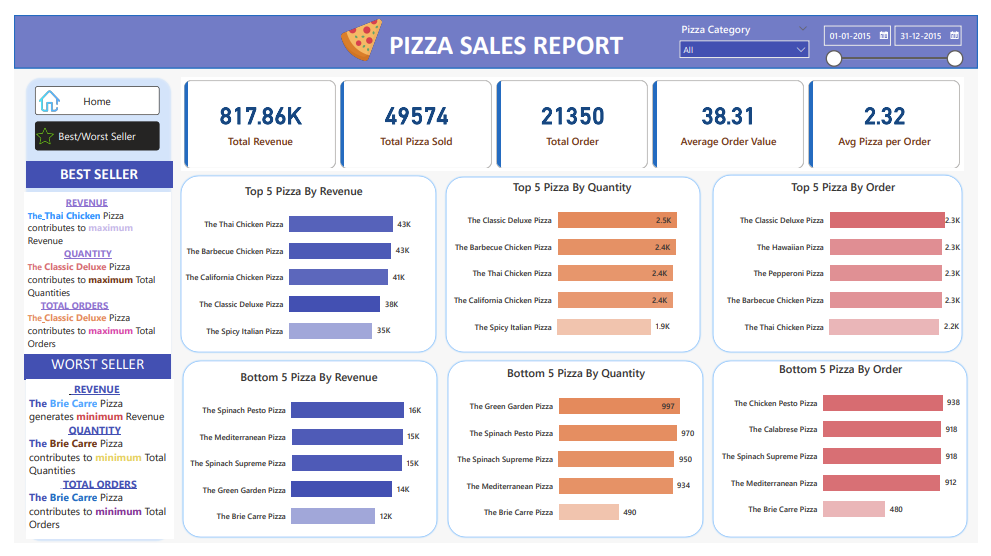

Layout of this report page (visuals, bound fields, positions):
{"tool":"powerbi","page":{"name":"Best/Worst Seller","canvas":[1500,820],"ordinal":1},"visuals":[{"type":"cardVisual","fields":{"Data":["pizza_sales.Total_Revenue","pizza_sales.Total_Pizza_Sold","pizza_sales.Total_Order","pizza_sales.Average_Order_Value","pizza_sales.Avg_Pizza_per_Order"]},"box":[260,96,1218,146],"z":0},{"type":"shape","box":[0,0,1500,82],"z":1000},{"type":"textbox","box":[564,14,404,68],"z":2000},{"type":"shape","box":[258,248,400,278],"z":3000},{"type":"shape","box":[1086,246,392,280],"z":5000},{"type":"shape","box":[16,96,230,724],"z":6000},{"type":"shape","box":[260,536,400,278],"z":8000},{"type":"shape","box":[674,536,400,278],"z":9000},{"type":"shape","box":[1086,536,400,278],"z":10000},{"type":"textbox","box":[18,226,228,42],"z":14000},{"type":"textbox","box":[16,522,228,44],"z":15000},{"type":"textbox","box":[16,274,228,252],"z":16000},{"type":"textbox","box":[18,566,230,248],"z":17000},{"type":"slicer","fields":{"Values":["pizza_sales.pizza_category"]},"box":[1026,6,222,70],"z":18000},{"type":"slicer","fields":{"Values":["pizza_sales.order_date"]},"box":[1248,6,238,90],"z":19000},{"type":"shape","box":[670,250,400,276],"z":19001},{"type":"barChart","title":"Top 5 Pizza By Revenue","fields":{"Category":["pizza_sales.pizza_name"],"Y":["pizza_sales.Total_Revenue"]},"box":[260,260,382,266],"z":19002},{"type":"barChart","title":"Bottom 5 Pizza By Revenue","fields":{"Category":["pizza_sales.pizza_name"],"Y":["pizza_sales.Total_Revenue"]},"box":[268,550,382,264],"z":19003},{"type":"barChart","title":"Top 5 Pizza By Quantity","fields":{"Category":["pizza_sales.pizza_name"],"Y":["pizza_sales.Total_Pizza_Sold"]},"box":[678,254,382,266],"z":19004},{"type":"barChart","title":"Bottom 5 Pizza By Quantity","fields":{"Category":["pizza_sales.pizza_name"],"Y":["pizza_sales.Total_Pizza_Sold"]},"box":[684,544,382,264],"z":19005},{"type":"barChart","title":"Top 5 Pizza By Order","fields":{"Category":["pizza_sales.pizza_name"],"Y":["pizza_sales.Total_Order"]},"box":[1104,254,374,266],"z":19006},{"type":"barChart","title":"Bottom 5 Pizza By Order","fields":{"Category":["pizza_sales.pizza_name"],"Y":["pizza_sales.Total_Order"]},"box":[1096,538,382,266],"z":19007},{"type":"pageNavigator","box":[32,110,194,100],"z":19008},{"type":"image","box":[34,96,42,74],"z":19009},{"type":"image","box":[20,170,56,36],"z":19010},{"type":"image","box":[502,0,78,76],"z":19011}]}

Visuals, with their boxes in screenshot pixels (x1, y1, x2, y2), scaled from the page's 1500x820 canvas onto the 991x556 screenshot:
cardVisual - pizza_sales.Total_Revenue x pizza_sales.Total_Pizza_Sold: (172, 65, 976, 164)
shape: (0, 0, 990, 56)
textbox: (373, 9, 640, 56)
shape: (170, 168, 435, 357)
shape: (717, 167, 976, 357)
shape: (11, 65, 163, 555)
shape: (172, 363, 436, 552)
shape: (445, 363, 710, 552)
shape: (717, 363, 982, 552)
textbox: (12, 153, 163, 182)
textbox: (11, 354, 161, 384)
textbox: (11, 186, 161, 357)
textbox: (12, 384, 164, 552)
slicer - pizza_sales.pizza_category: (678, 4, 825, 52)
slicer - pizza_sales.order_date: (825, 4, 982, 65)
shape: (443, 170, 707, 357)
"Top 5 Pizza By Revenue" barChart: (172, 176, 424, 357)
"Bottom 5 Pizza By Revenue" barChart: (177, 373, 429, 552)
"Top 5 Pizza By Quantity" barChart: (448, 172, 700, 353)
"Bottom 5 Pizza By Quantity" barChart: (452, 369, 704, 548)
"Top 5 Pizza By Order" barChart: (729, 172, 976, 353)
"Bottom 5 Pizza By Order" barChart: (724, 365, 976, 545)
pageNavigator: (21, 75, 149, 142)
image: (22, 65, 50, 115)
image: (13, 115, 50, 140)
image: (332, 0, 383, 52)
